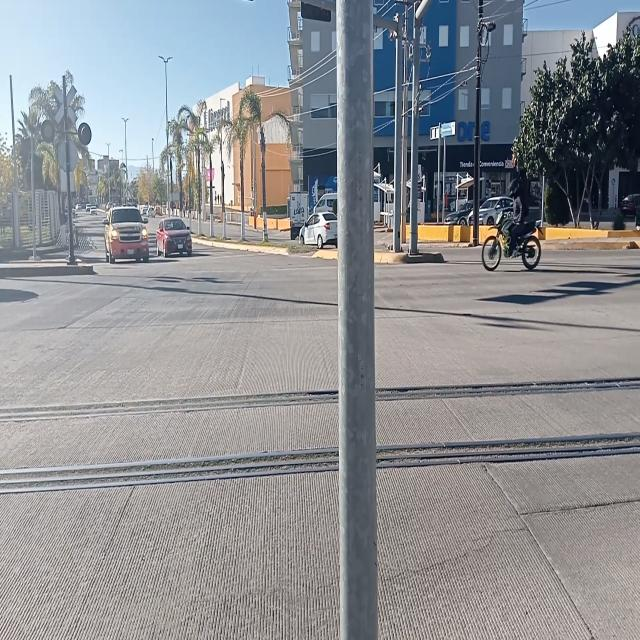Auto: (101, 200, 151, 266), (157, 213, 193, 263)
